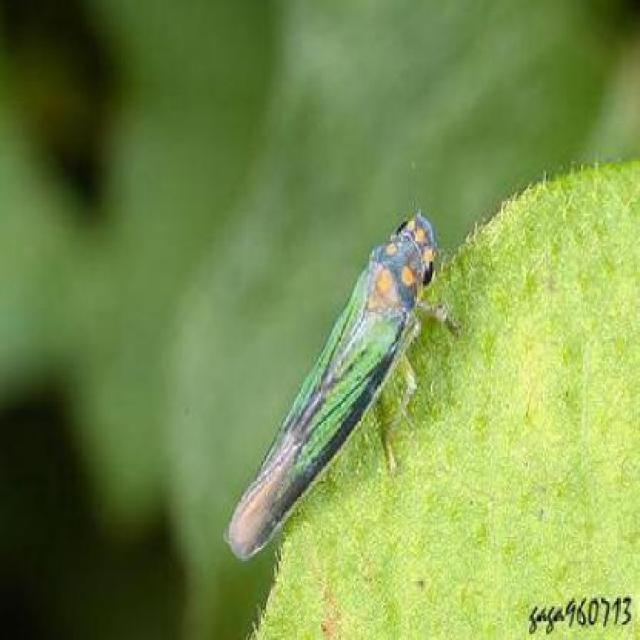green-leafhopper: (228, 201, 466, 561)
